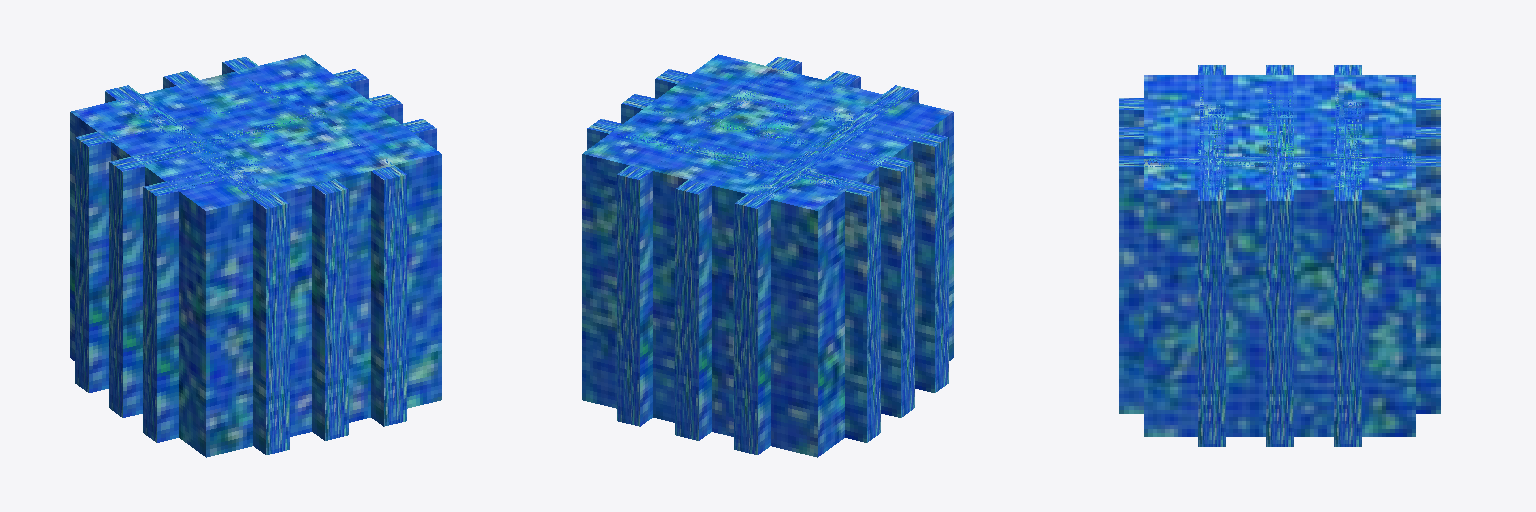
3 views of the same model, side by side, from view 1: azimuth 30°, elevation 25°; view 2: azimuth 150°, elevation 25°; view 3: azimuth 270°, elevation 25° (orthographic).
Visible parts, largest first — view 1: pCube1, pasted__pasted__pCube2 pasted__group group1, pasted__pasted__pasted__pasted__pCube2 pasted__pasted__pasted__g, pasted__pasted__pasted__pasted__pasted__pCube2 pasted__pasted__p, pasted__pCube2 group, pCube2, pasted__pasted__pasted__pCube2 pasted__pasted__group pasted__gro; view 2: pCube1, pasted__pasted__pCube2 pasted__group group1, pasted__pasted__pasted__pCube2 pasted__pasted__group pasted__gro, pasted__pCube2 group, pCube2, pasted__pasted__pasted__pasted__pCube2 pasted__pasted__pasted__g, pasted__pasted__pasted__pasted__pasted__pCube2 pasted__pasted__p; view 3: pCube1, pCube2, pasted__pasted__pasted__pasted__pCube2 pasted__pasted__pasted__g, pasted__pasted__pasted__pCube2 pasted__pasted__group pasted__gro, pasted__pasted__pasted__pasted__pasted__pCube2 pasted__pasted__p, pasted__pCube2 group, pasted__pasted__pCube2 pasted__group group1.
Boxes of the visible parts, x1,y1,x2,y2 form: pCube1: [70, 54, 441, 457]; pasted__pasted__pCube2 pasted__group group1: [105, 85, 289, 454]; pasted__pasted__pasted__pasted__pCube2 pasted__pasted__pasted__g: [109, 94, 402, 417]; pasted__pasted__pasted__pasted__pasted__pCube2 pasted__pasted__p: [143, 119, 436, 442]; pasted__pCube2 group: [163, 71, 348, 440]; pCube2: [222, 57, 406, 426]; pasted__pasted__pasted__pCube2 pasted__pasted__group pasted__gro: [75, 69, 368, 392]; pCube1: [582, 54, 953, 457]; pasted__pasted__pCube2 pasted__group group1: [734, 85, 918, 454]; pasted__pasted__pasted__pCube2 pasted__pasted__group pasted__gro: [587, 119, 880, 442]; pasted__pCube2 group: [675, 71, 860, 440]; pCube2: [617, 57, 801, 426]; pasted__pasted__pasted__pasted__pCube2 pasted__pasted__pasted__g: [621, 94, 914, 417]; pasted__pasted__pasted__pasted__pasted__pCube2 pasted__pasted__p: [655, 69, 948, 392]; pCube1: [1144, 75, 1415, 436]; pCube2: [1119, 156, 1440, 413]; pasted__pasted__pasted__pasted__pCube2 pasted__pasted__pasted__g: [1266, 65, 1293, 446]; pasted__pasted__pasted__pCube2 pasted__pasted__group pasted__gro: [1334, 65, 1361, 446]; pasted__pasted__pasted__pasted__pasted__pCube2 pasted__pasted__p: [1198, 65, 1225, 446]; pasted__pCube2 group: [1119, 127, 1440, 155]; pasted__pasted__pCube2 pasted__group group1: [1119, 98, 1440, 126].
Bounding box in the file's own units: 0.95 × 0.8 × 0.95.
Materials: 1 (1 with a texture image).